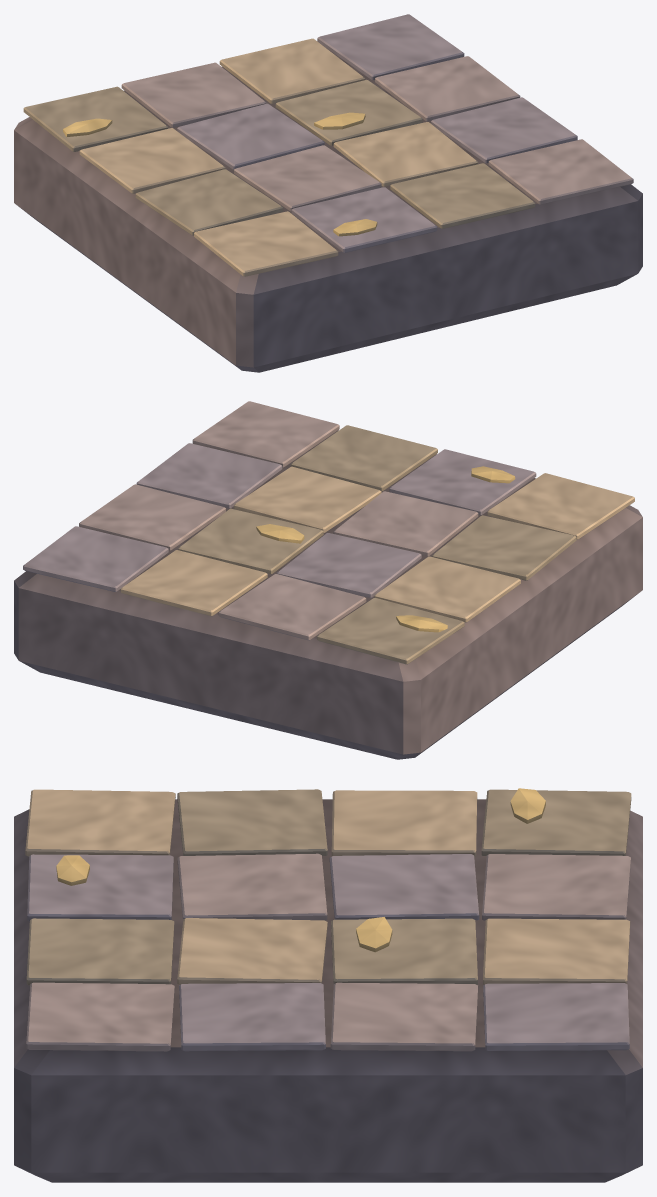
Rendered from dusk_floor_bell.glb.
The picture shows the model from 3 angles, top to bottom: view 1: azimuth 30°, elevation 25°; view 2: azimuth 150°, elevation 25°; view 3: azimuth 270°, elevation 25°; orthographic projection. The views are drawn at different scales.
Parts seen in each view (by area): view 1: Dämmergänge · bell; view 2: Dämmergänge · bell; view 3: Dämmergänge · bell.
Part boxes in pixels (x1=…): Dämmergänge · bell: x1=14, y1=14, x2=642, y2=372; Dämmergänge · bell: x1=14, y1=401, x2=642, y2=759; Dämmergänge · bell: x1=14, y1=788, x2=642, y2=1182.
Bounding box in the file's own units: 2.4 × 0.626 × 2.4.
1 material, 1 textured.
